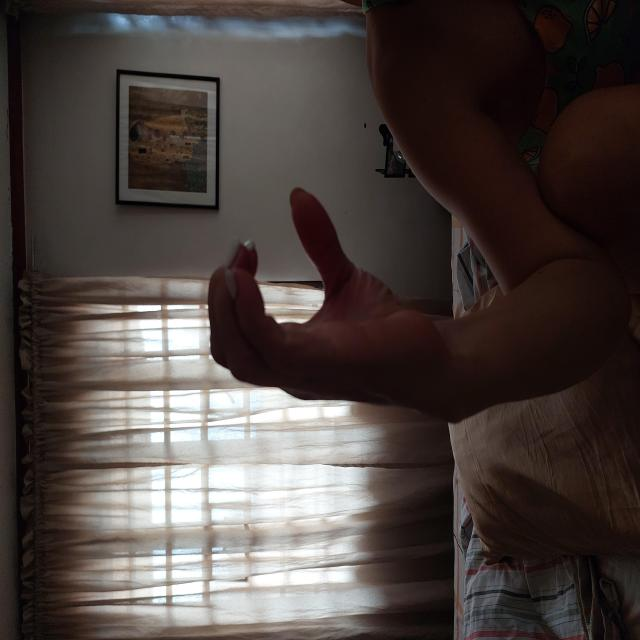C: (224, 207, 456, 448)
